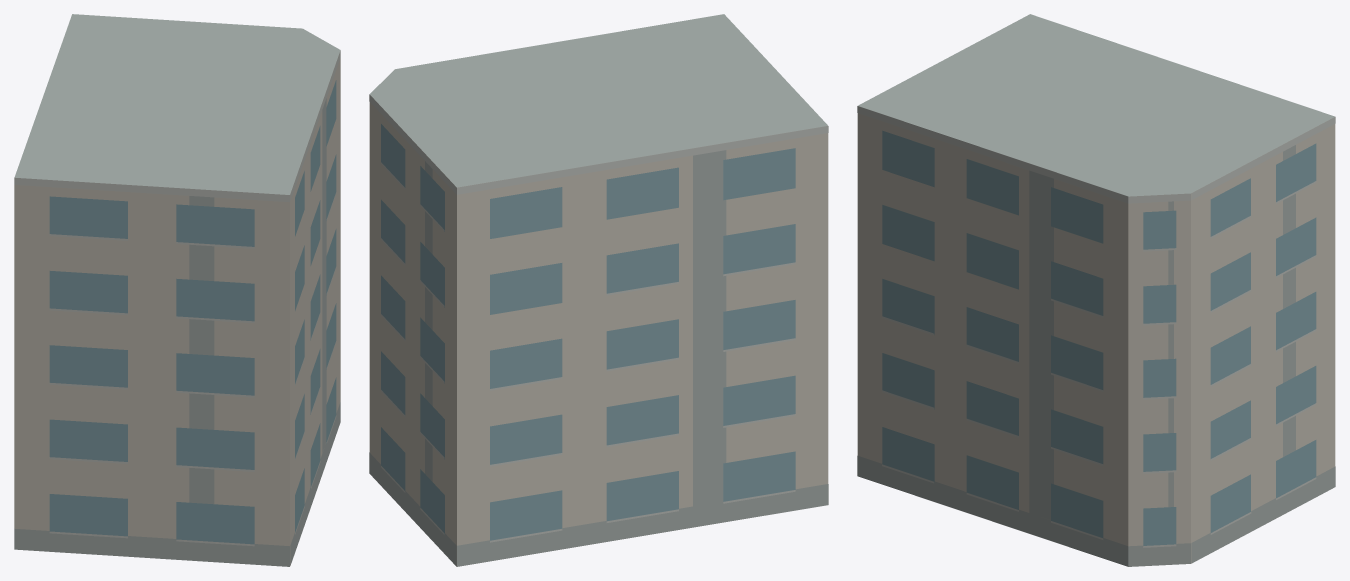
The model's file is survey-upis-32865958.glb.
The picture shows the model from 3 angles, left to right: view 1: azimuth 30°, elevation 25°; view 2: azimuth 150°, elevation 25°; view 3: azimuth 270°, elevation 25°; orthographic projection. The views are drawn at different scales.
Visible parts, largest first — view 1: survey-upis-32865958.tmp; view 2: survey-upis-32865958.tmp; view 3: survey-upis-32865958.tmp.
Boxes of the visible parts, x1,y1,x2,y2 form: survey-upis-32865958.tmp: [14, 14, 340, 566]; survey-upis-32865958.tmp: [369, 14, 828, 566]; survey-upis-32865958.tmp: [857, 14, 1335, 566].
Size of the model in its own units: 13.49 by 12.75 by 14.92.
